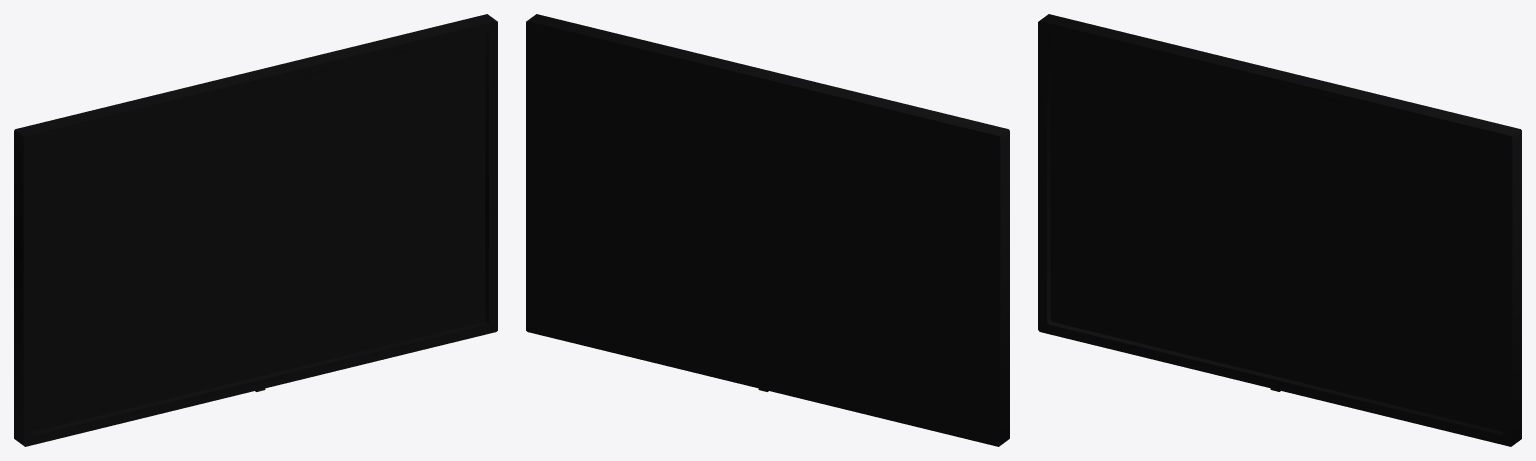
3 views of the same model, side by side, from view 1: azimuth 30°, elevation 25°; view 2: azimuth 150°, elevation 25°; view 3: azimuth 330°, elevation 25° (orthographic).
Parts seen in each view (by area): view 1: TV; view 2: TV; view 3: TV.
Boxes of the visible parts, x1,y1,x2,y2 form: TV: (14,14,497,446); TV: (526,14,1009,446); TV: (1038,14,1521,446).
Bounding box in the file's own units: 1.28 × 0.804 × 0.0447.
